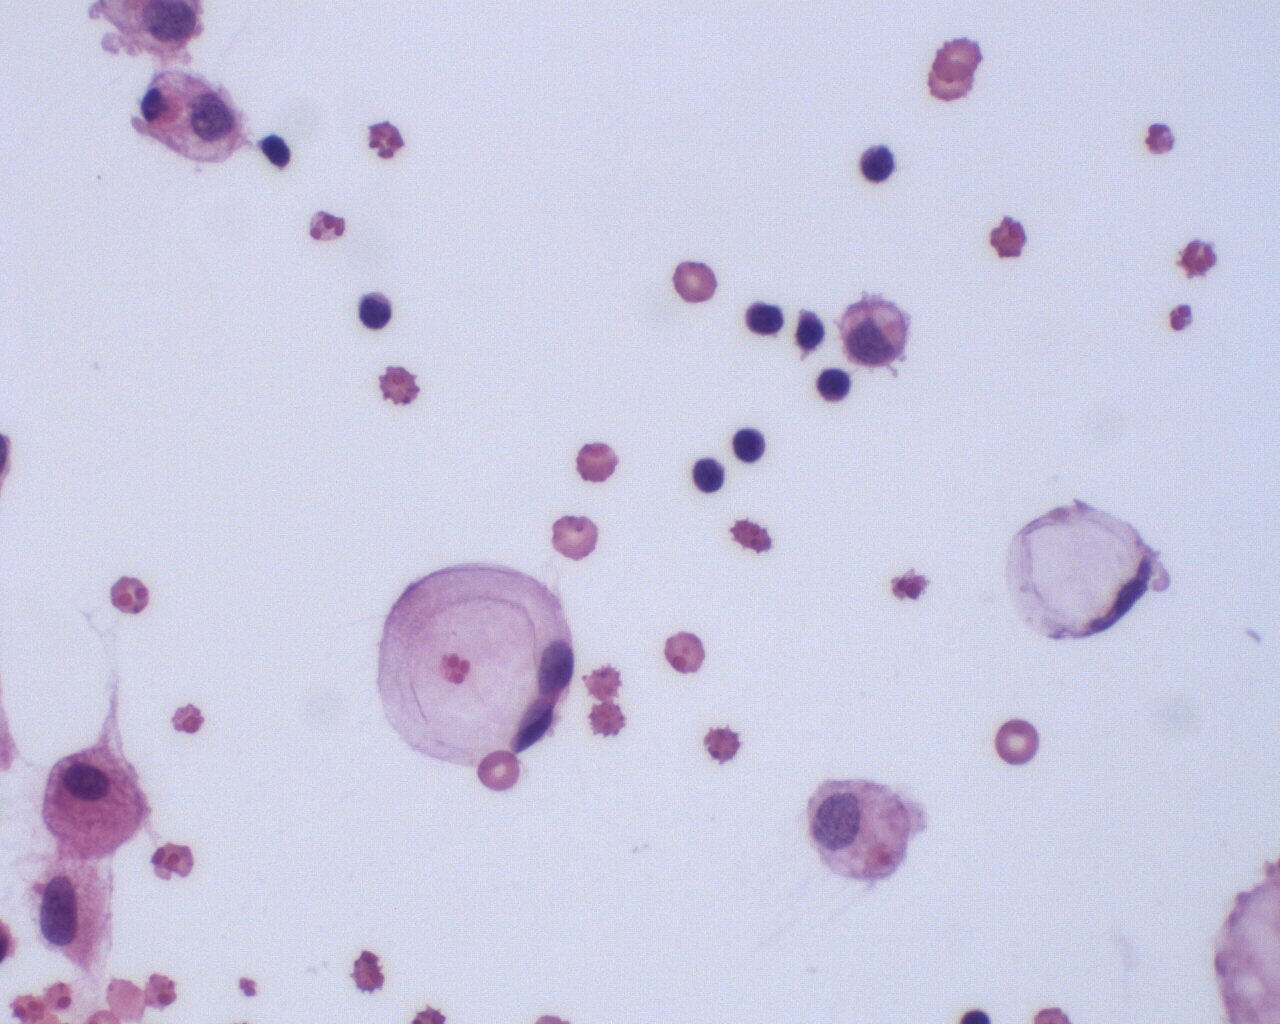histo: (374, 558, 578, 761), (1007, 494, 1153, 639), (33, 741, 157, 854)
lymph: (349, 287, 398, 335), (730, 419, 774, 466), (812, 363, 855, 409), (686, 453, 727, 496)
